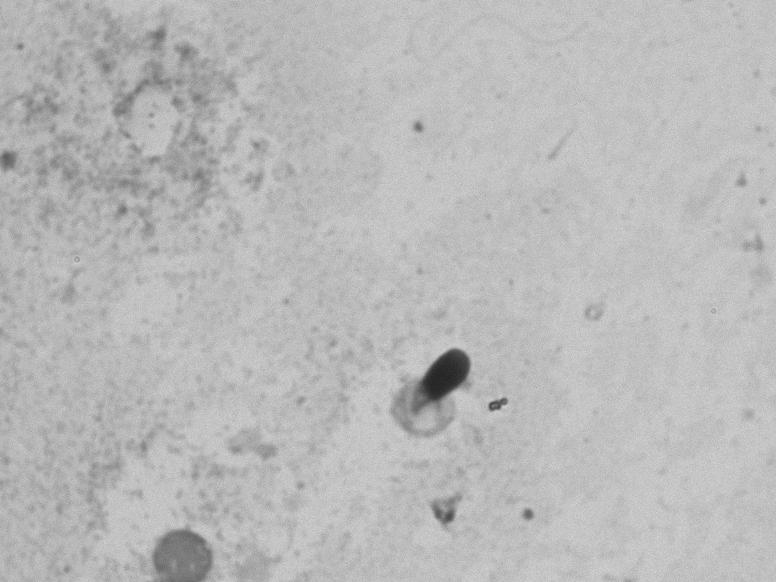Abnormal: (368, 295, 504, 471)
